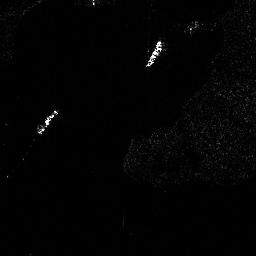ship: (36, 108, 59, 134), (145, 38, 162, 67)
